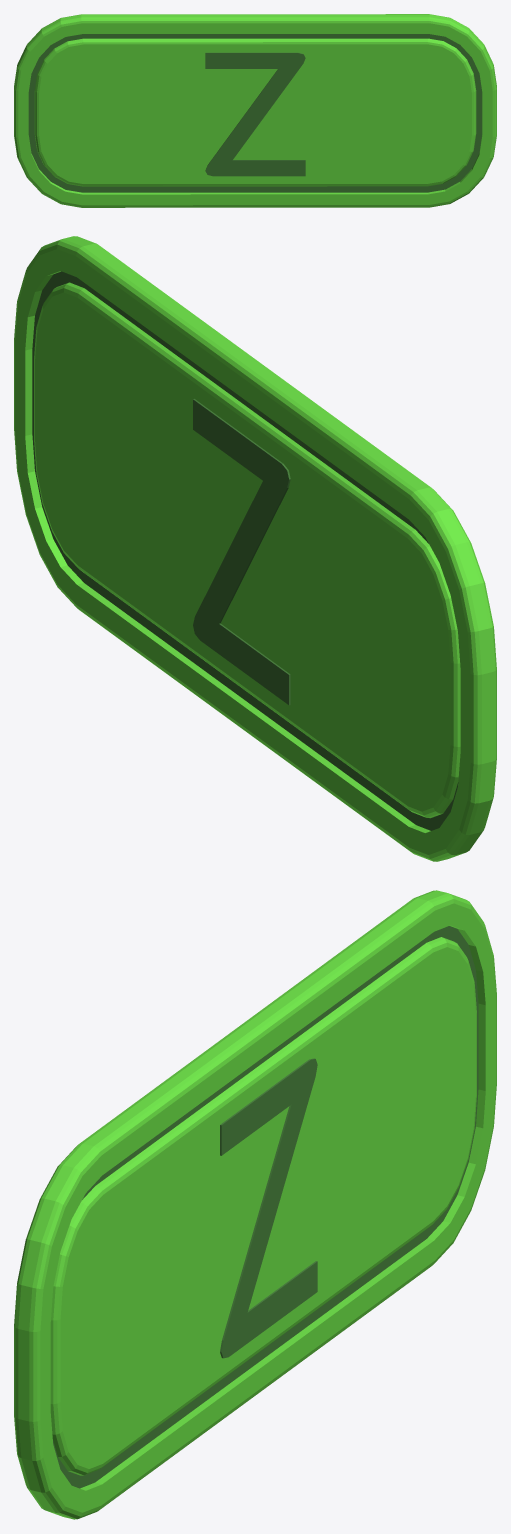
File: ZolsCurrencyANIM.fbx
3 views of the same model, one above another, from view 1: azimuth 30°, elevation 25°; view 2: azimuth 150°, elevation 25°; view 3: azimuth 270°, elevation 25° (orthographic). The views are drawn at different scales.
Visible parts, largest first — view 1: Cube; view 2: Cube; view 3: Cube.
Boxes of the visible parts, x1,y1,x2,y2 form: Cube: (14,14,496,207); Cube: (14,236,496,861); Cube: (14,890,496,1519).
Size of the model in its own units: 133 by 65.69 by 78.65.
